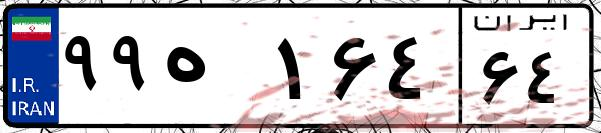1: (270, 28, 330, 110)
4: (385, 28, 445, 110), (525, 38, 570, 115)
6: (330, 28, 385, 110), (475, 38, 525, 113)
9: (57, 26, 110, 100), (110, 28, 158, 98)
ه: (158, 20, 270, 120)
